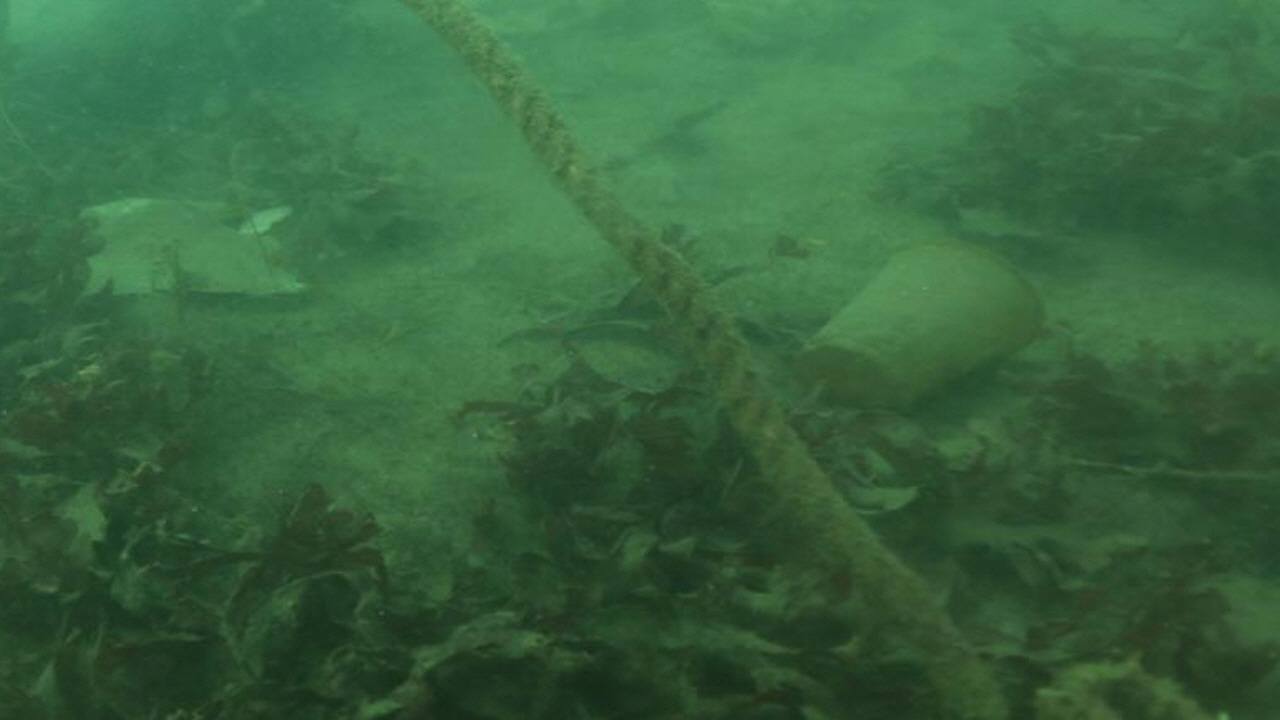rope: (395, 0, 1011, 720)
